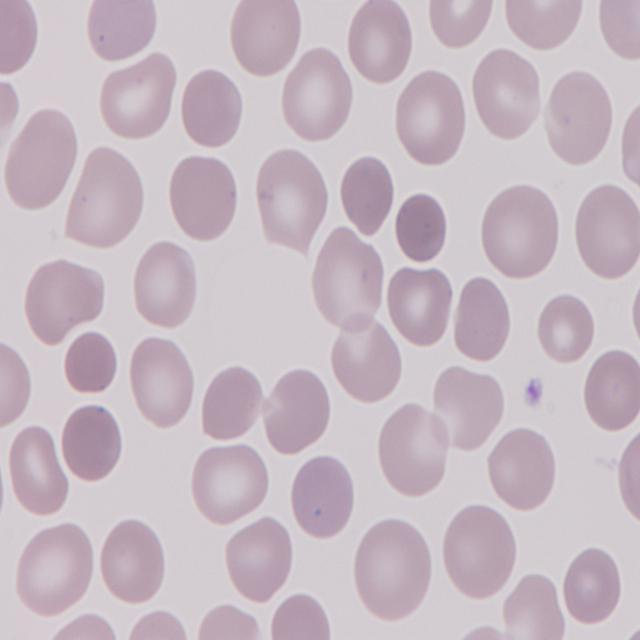RBC: (350, 514, 433, 626), (13, 522, 98, 624), (479, 182, 564, 284), (310, 227, 390, 335), (441, 502, 522, 604), (392, 67, 470, 171), (70, 144, 148, 248), (540, 62, 616, 167), (3, 110, 81, 209), (468, 44, 544, 144), (278, 44, 354, 144), (254, 150, 328, 252), (22, 255, 105, 344), (376, 402, 448, 504), (168, 150, 245, 244), (99, 51, 180, 140), (192, 444, 274, 528), (262, 362, 336, 454), (328, 312, 402, 404), (126, 334, 196, 431), (572, 183, 640, 282), (130, 236, 200, 332), (487, 424, 561, 514), (221, 514, 294, 604), (7, 425, 72, 521), (96, 518, 168, 604), (347, 0, 417, 87), (386, 264, 456, 349), (228, 0, 302, 80), (560, 544, 628, 628), (454, 276, 516, 364), (199, 366, 268, 444), (579, 348, 640, 434), (88, 0, 160, 65), (504, 0, 589, 55), (534, 289, 597, 362), (500, 572, 565, 640), (422, 1, 500, 55), (268, 591, 336, 640), (0, 334, 33, 428), (594, 0, 640, 67), (0, 0, 38, 78), (194, 603, 268, 640), (615, 425, 640, 531), (617, 96, 640, 197), (122, 608, 192, 640)
Spherocyte: (288, 455, 359, 547), (180, 67, 248, 153), (58, 402, 125, 484), (336, 152, 396, 236), (393, 188, 453, 268), (60, 328, 121, 398)
